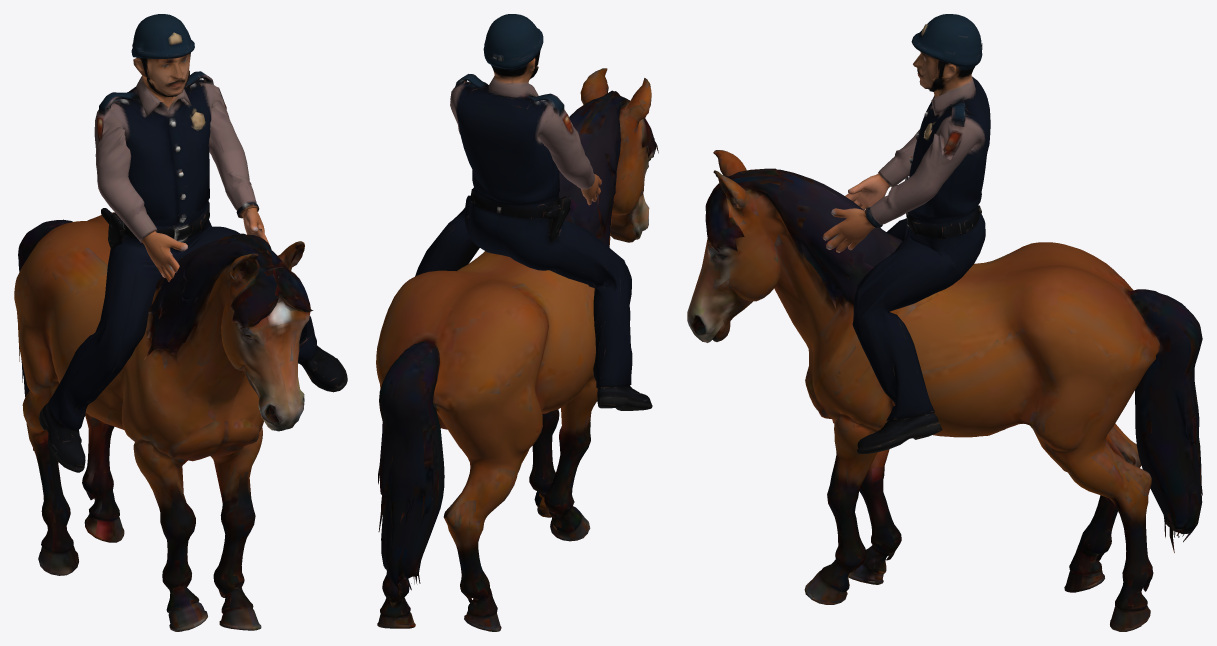
File: polisi_kuda_idle.glb
3 renders of one model, left to right at view 1: azimuth 30°, elevation 25°; view 2: azimuth 150°, elevation 25°; view 3: azimuth 270°, elevation 25°, orthographic. The views are drawn at different scales.
Parts seen in each view (by area): view 1: horse3dmodel_2; view 2: horse3dmodel_2; view 3: horse3dmodel_2.
Boxes of the visible parts, left/top/right/bottom form: horse3dmodel_2: left=14, top=14, right=347, bottom=631; horse3dmodel_2: left=376, top=14, right=658, bottom=631; horse3dmodel_2: left=687, top=14, right=1202, bottom=631.
Size of the model in its own units: 64.05 by 133 by 105.
Materials: 2 (2 with a texture image).
